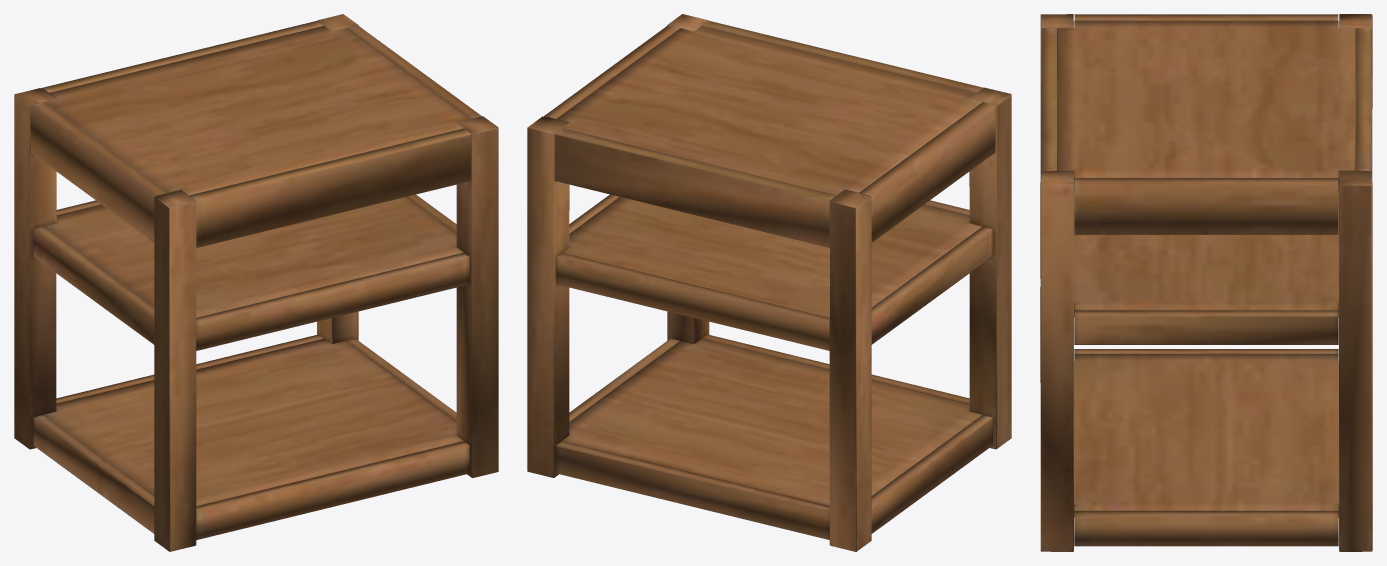
File: side_table_01.2a877c40.glb
3 views of the same model, side by side, from view 1: azimuth 30°, elevation 25°; view 2: azimuth 150°, elevation 25°; view 3: azimuth 270°, elevation 25° (orthographic). The views are drawn at different scales.
Parts seen in each view (by area): view 1: side_table_01; view 2: side_table_01; view 3: side_table_01.
Boxes of the visible parts, left/top/right/bottom form: side_table_01: left=14, top=14, right=498, bottom=551; side_table_01: left=527, top=14, right=1011, bottom=551; side_table_01: left=1040, top=14, right=1372, bottom=551.
Size of the model in its own units: 0.55 by 0.5507 by 0.45.
Materials: 1 (1 with a texture image).
